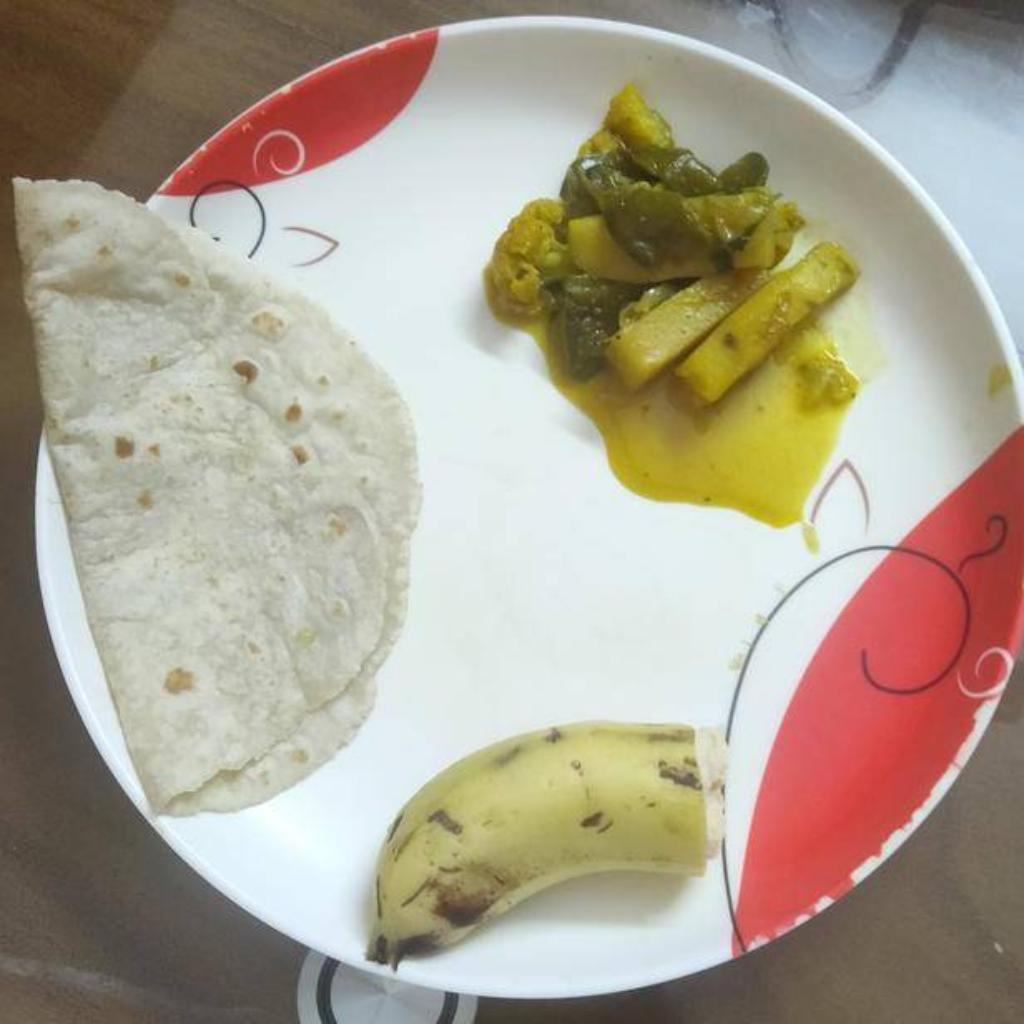banana: (365, 719, 728, 966)
ruti: (11, 178, 420, 813)
vegetable: (485, 76, 861, 526)
